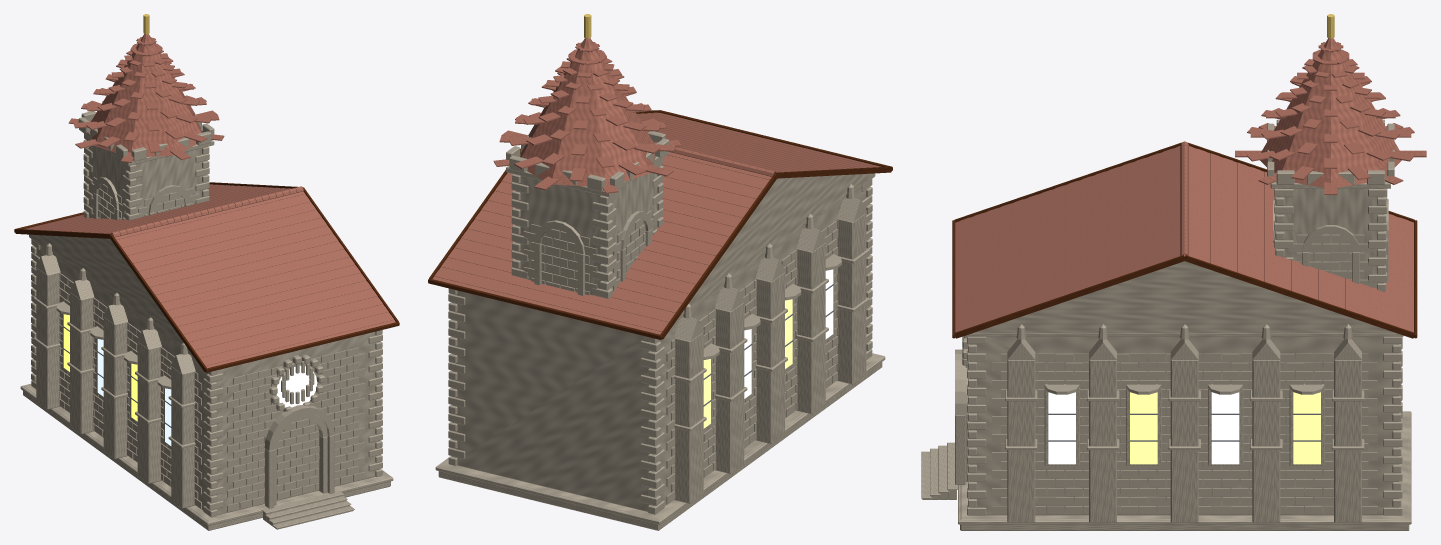
The model's file is fantasy-mmo-city-and-townsfolk-city-cathedral-260bcd65__32747.glb.
3 views of the same model, side by side, from view 1: azimuth 30°, elevation 25°; view 2: azimuth 150°, elevation 25°; view 3: azimuth 270°, elevation 25° (orthographic). The views are drawn at different scales.
Visible parts, largest first — view 1: city-cathedral; view 2: city-cathedral; view 3: city-cathedral.
Boxes of the visible parts, <box> form: city-cathedral: <box>14,14,399,530</box>; city-cathedral: <box>428,14,892,530</box>; city-cathedral: <box>921,14,1426,530</box>.
Bounding box in the file's own units: 12.92 × 23.7 × 23.51.
Materials: 7 (3 with a texture image).
